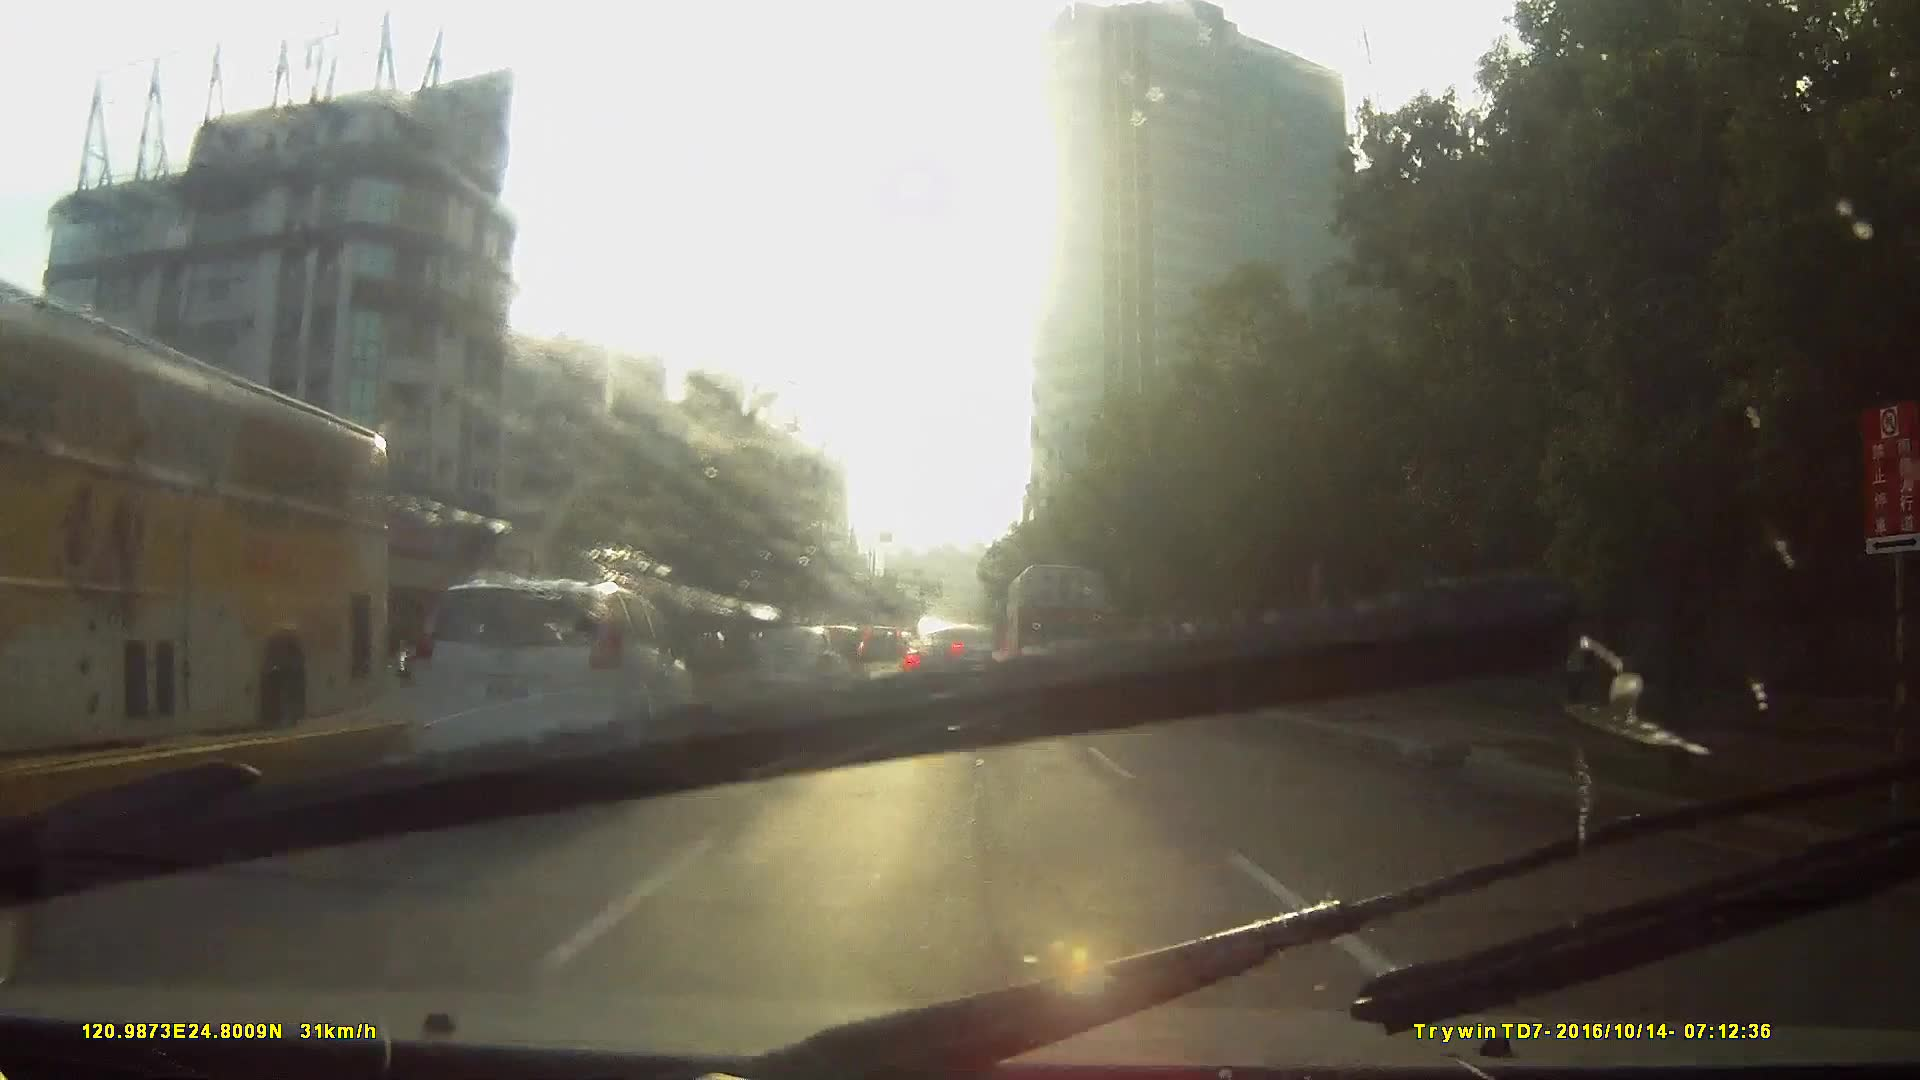pedestrian: (1535, 587, 1604, 729)
vehicle: (1, 282, 437, 821), (250, 556, 684, 868), (401, 567, 697, 801), (1008, 560, 1113, 686), (892, 615, 1011, 724), (739, 620, 848, 704), (854, 619, 903, 668)
